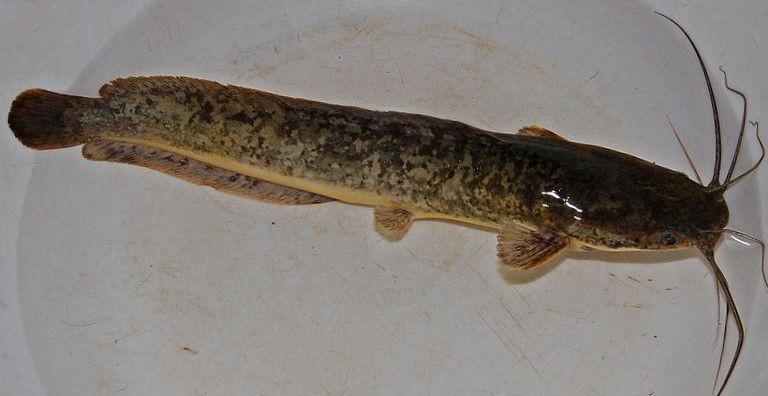Catfish: (5, 64, 737, 275)
